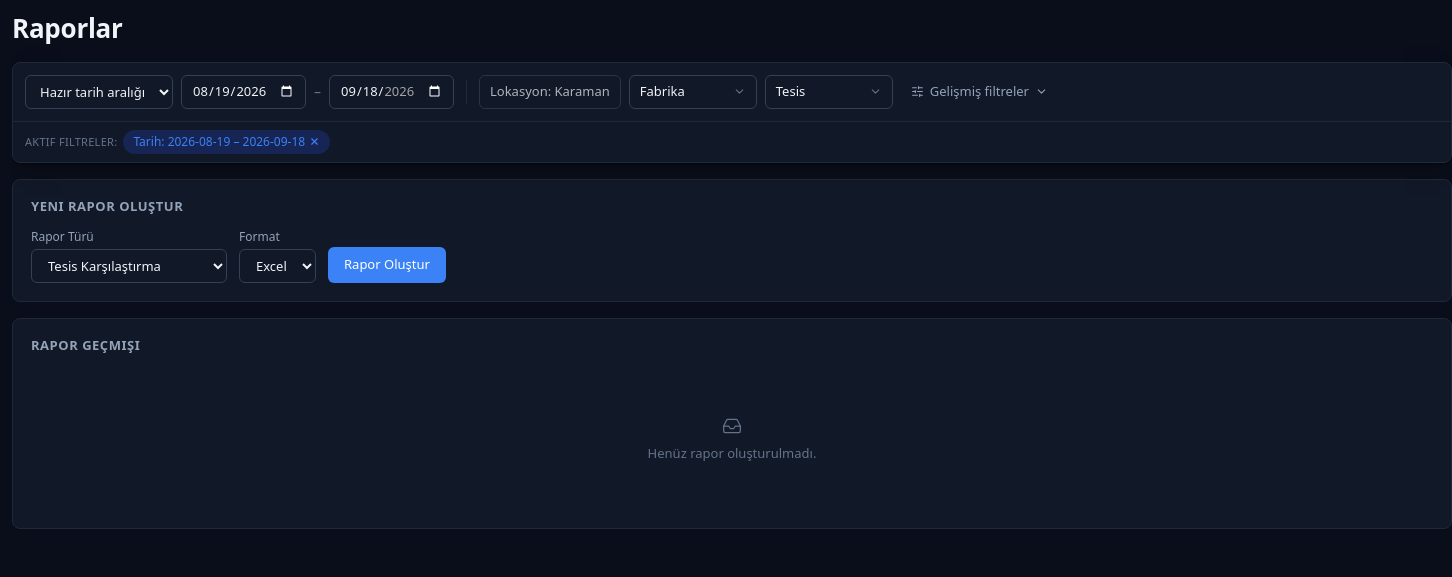
Test: ReportsPage — generate report flow › shows a Turkish error message when report generation fails
The image size is (1452, 577).
expect the heading "Yeni Rapor Oluştur" is shown: met, box [31,198,183,215]
Click the button "Rapor Oluştur" at [387, 265], box [328,247,446,283]
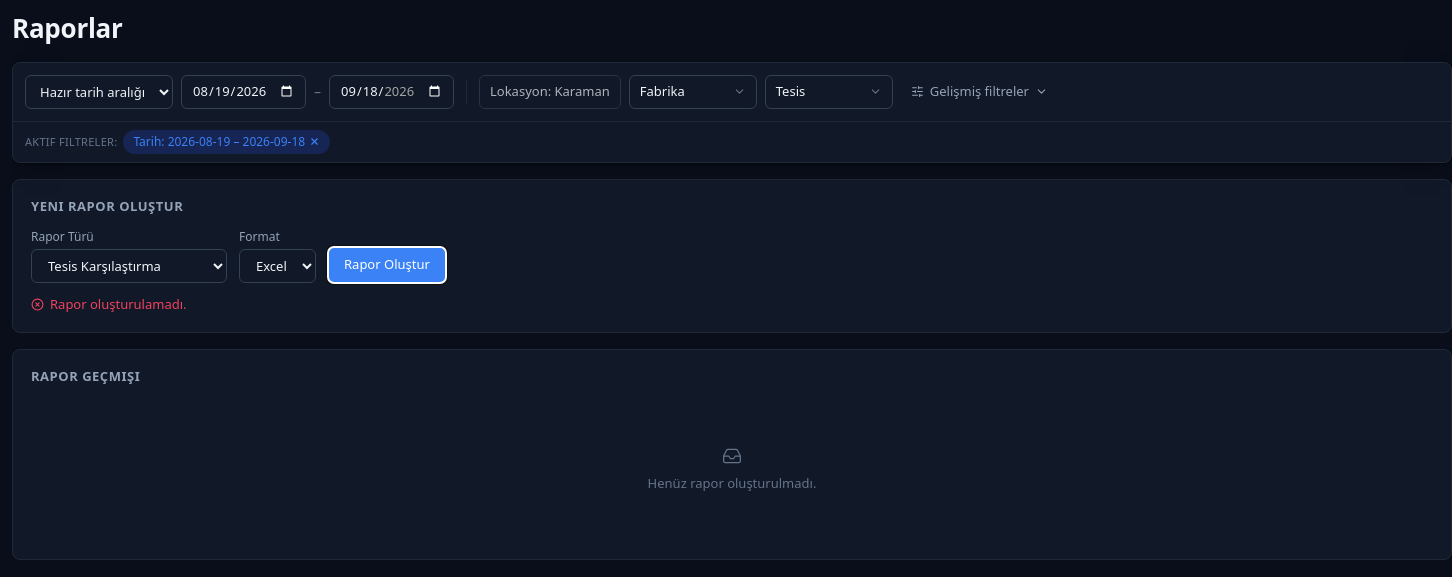
expect the text "Rapor oluşturulamadı." is shown: met, box [31,295,186,313]
